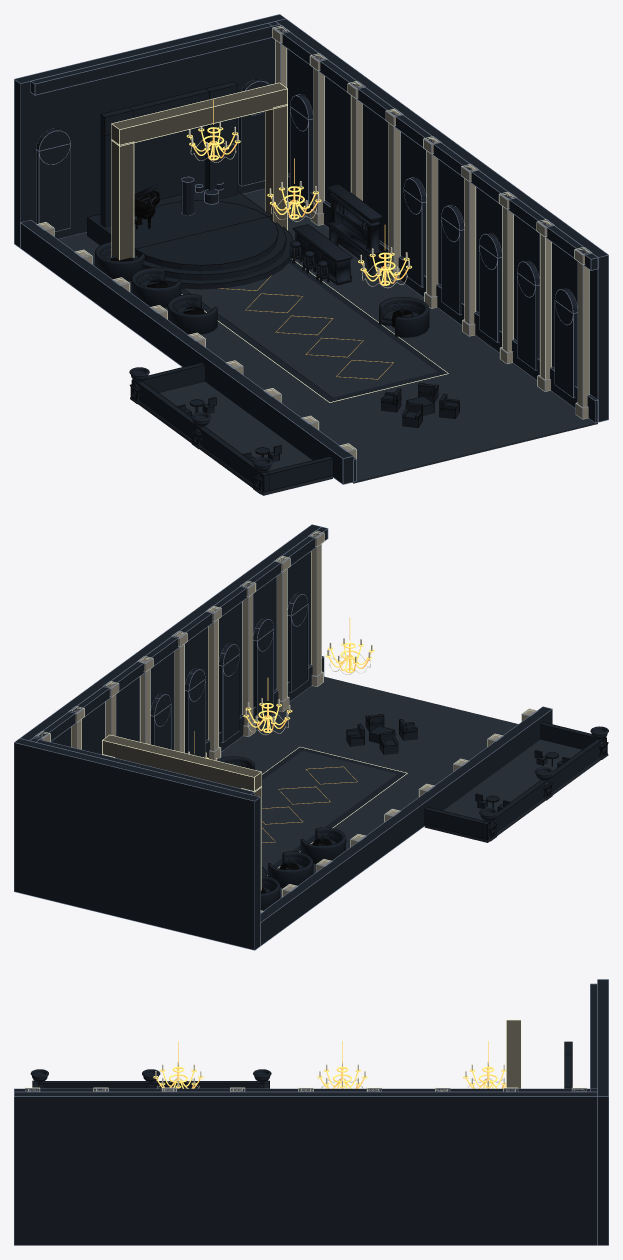
3 renders of one model, top to bottom at view 1: azimuth 30°, elevation 25°; view 2: azimuth 150°, elevation 25°; view 3: azimuth 270°, elevation 25°, orthographic. The views are drawn at different scales.
Visible parts, largest first — view 1: 地面.006, 远端墙.001, 右墙.004, 舞池, 描线_focus_晚宴_暗, 左墙_矮.001, 乐池台阶_3, 描线_focus_晚宴, 吧台, 露台地面, 右墙_檐口, 乐池台 (+38 smaller); view 2: 远端墙.001, 地面.006, 右墙.004, 左墙_矮.001, 描线_focus_晚宴_暗, 舞池, 露台地面, 右墙_檐口, 台口_楣, 描线_focus_晚宴_CDA54D, 露台栏杆_外, 右窗_1 (+18 smaller); view 3: 右墙.004, 描线_focus_晚宴_暗, 远端墙.001, 右墙_檐口, 露台栏杆_外, 台口_楣, 远端墙_檐口, 描线_focus_晚宴, 描线_focus_晚宴_CDA54D.
Boxes of the visible parts, left/top/right/bottom form: 地面.006: left=58, top=189, right=597, bottom=483; 远端墙.001: left=14, top=14, right=284, bottom=247; 右墙.004: left=276, top=19, right=608, bottom=421; 舞池: left=184, top=263, right=437, bottom=397; 描线_focus_晚宴_暗: left=14, top=14, right=608, bottom=484; 左墙_矮.001: left=20, top=220, right=353, bottom=483; 乐池台阶_3: left=135, top=200, right=278, bottom=271; 描线_focus_晚宴: left=87, top=81, right=459, bottom=492; 吧台: left=290, top=184, right=382, bottom=284; 露台地面: left=138, top=381, right=332, bottom=495; 右墙_檐口: left=269, top=22, right=597, bottom=269; 乐池台: left=87, top=189, right=271, bottom=255; 远端墙.001: left=14, top=739, right=260, bottom=949; 地面.006: left=221, top=676, right=518, bottom=898; 右墙.004: left=21, top=525, right=320, bottom=754; 左墙_矮.001: left=260, top=707, right=552, bottom=945; 描线_focus_晚宴_暗: left=14, top=524, right=552, bottom=950; 舞池: left=262, top=751, right=397, bottom=870; 露台地面: left=424, top=739, right=600, bottom=842; 右墙_檐口: left=30, top=527, right=327, bottom=741; 台口_楣: left=102, top=735, right=261, bottom=791; 描线_focus_晚宴_CDA54D: left=38, top=531, right=536, bottom=911; 露台栏杆_外: left=482, top=739, right=602, bottom=839; 右窗_1: left=287, top=593, right=307, bottom=691; 右墙.004: left=14, top=1092, right=597, bottom=1245; 描线_focus_晚宴_暗: left=14, top=979, right=608, bottom=1245; 远端墙.001: left=597, top=979, right=608, bottom=1245; 右墙_檐口: left=14, top=1089, right=597, bottom=1091; 露台栏杆_外: left=32, top=1081, right=268, bottom=1088; 台口_楣: left=506, top=1020, right=520, bottom=1088; 远端墙_檐口: left=590, top=984, right=597, bottom=1089; 描线_focus_晚宴: left=32, top=1041, right=572, bottom=1088; 描线_focus_晚宴_CDA54D: left=25, top=1019, right=586, bottom=1091.
Bounding box in the file's own units: 1953 × 912 × 3264.
